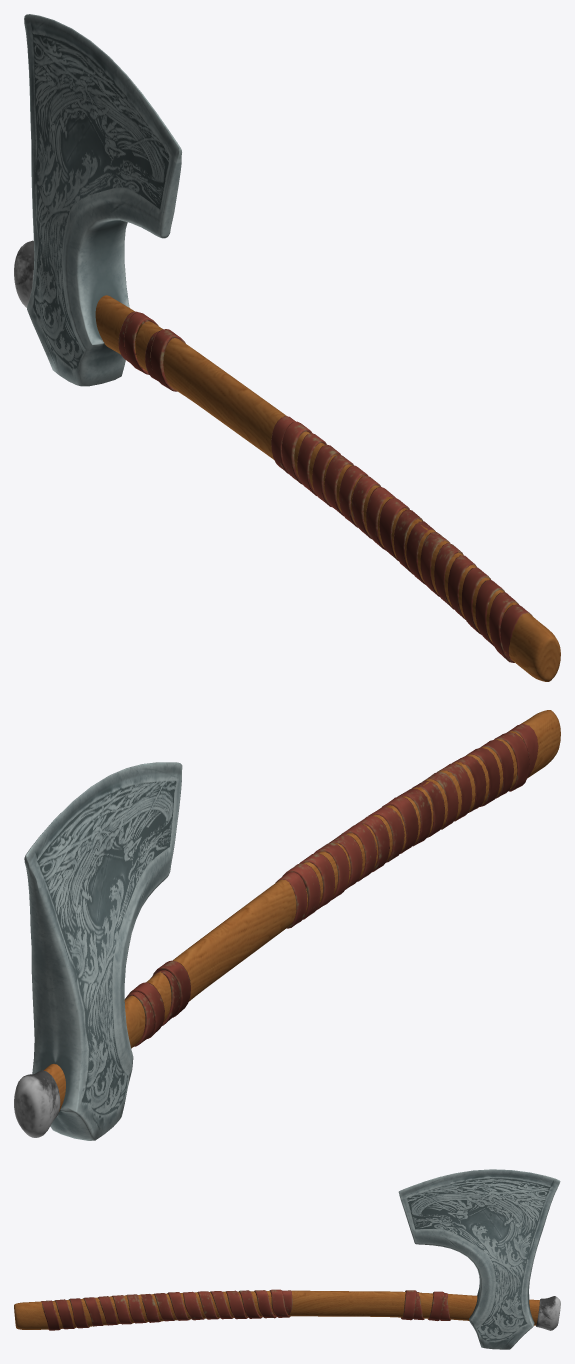
The model's file is 5VikingsObjectAxe.glb.
3 views of the same model, one above another, from view 1: azimuth 30°, elevation 25°; view 2: azimuth 150°, elevation 25°; view 3: azimuth 270°, elevation 25° (orthographic). The views are drawn at different scales.
Parts seen in each view (by area): view 1: VikingsObjectsAxe01; view 2: VikingsObjectsAxe01; view 3: VikingsObjectsAxe01.
Part boxes in pixels (x1,y1,x2,y2): VikingsObjectsAxe01: [14, 14, 560, 681]; VikingsObjectsAxe01: [14, 710, 560, 1140]; VikingsObjectsAxe01: [14, 1169, 560, 1349].
Size of the model in its own units: 0.1161 by 0.6771 by 1.9.
Materials: 4 (4 with a texture image).
